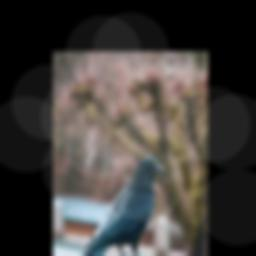Crow: (71, 156, 166, 256)
